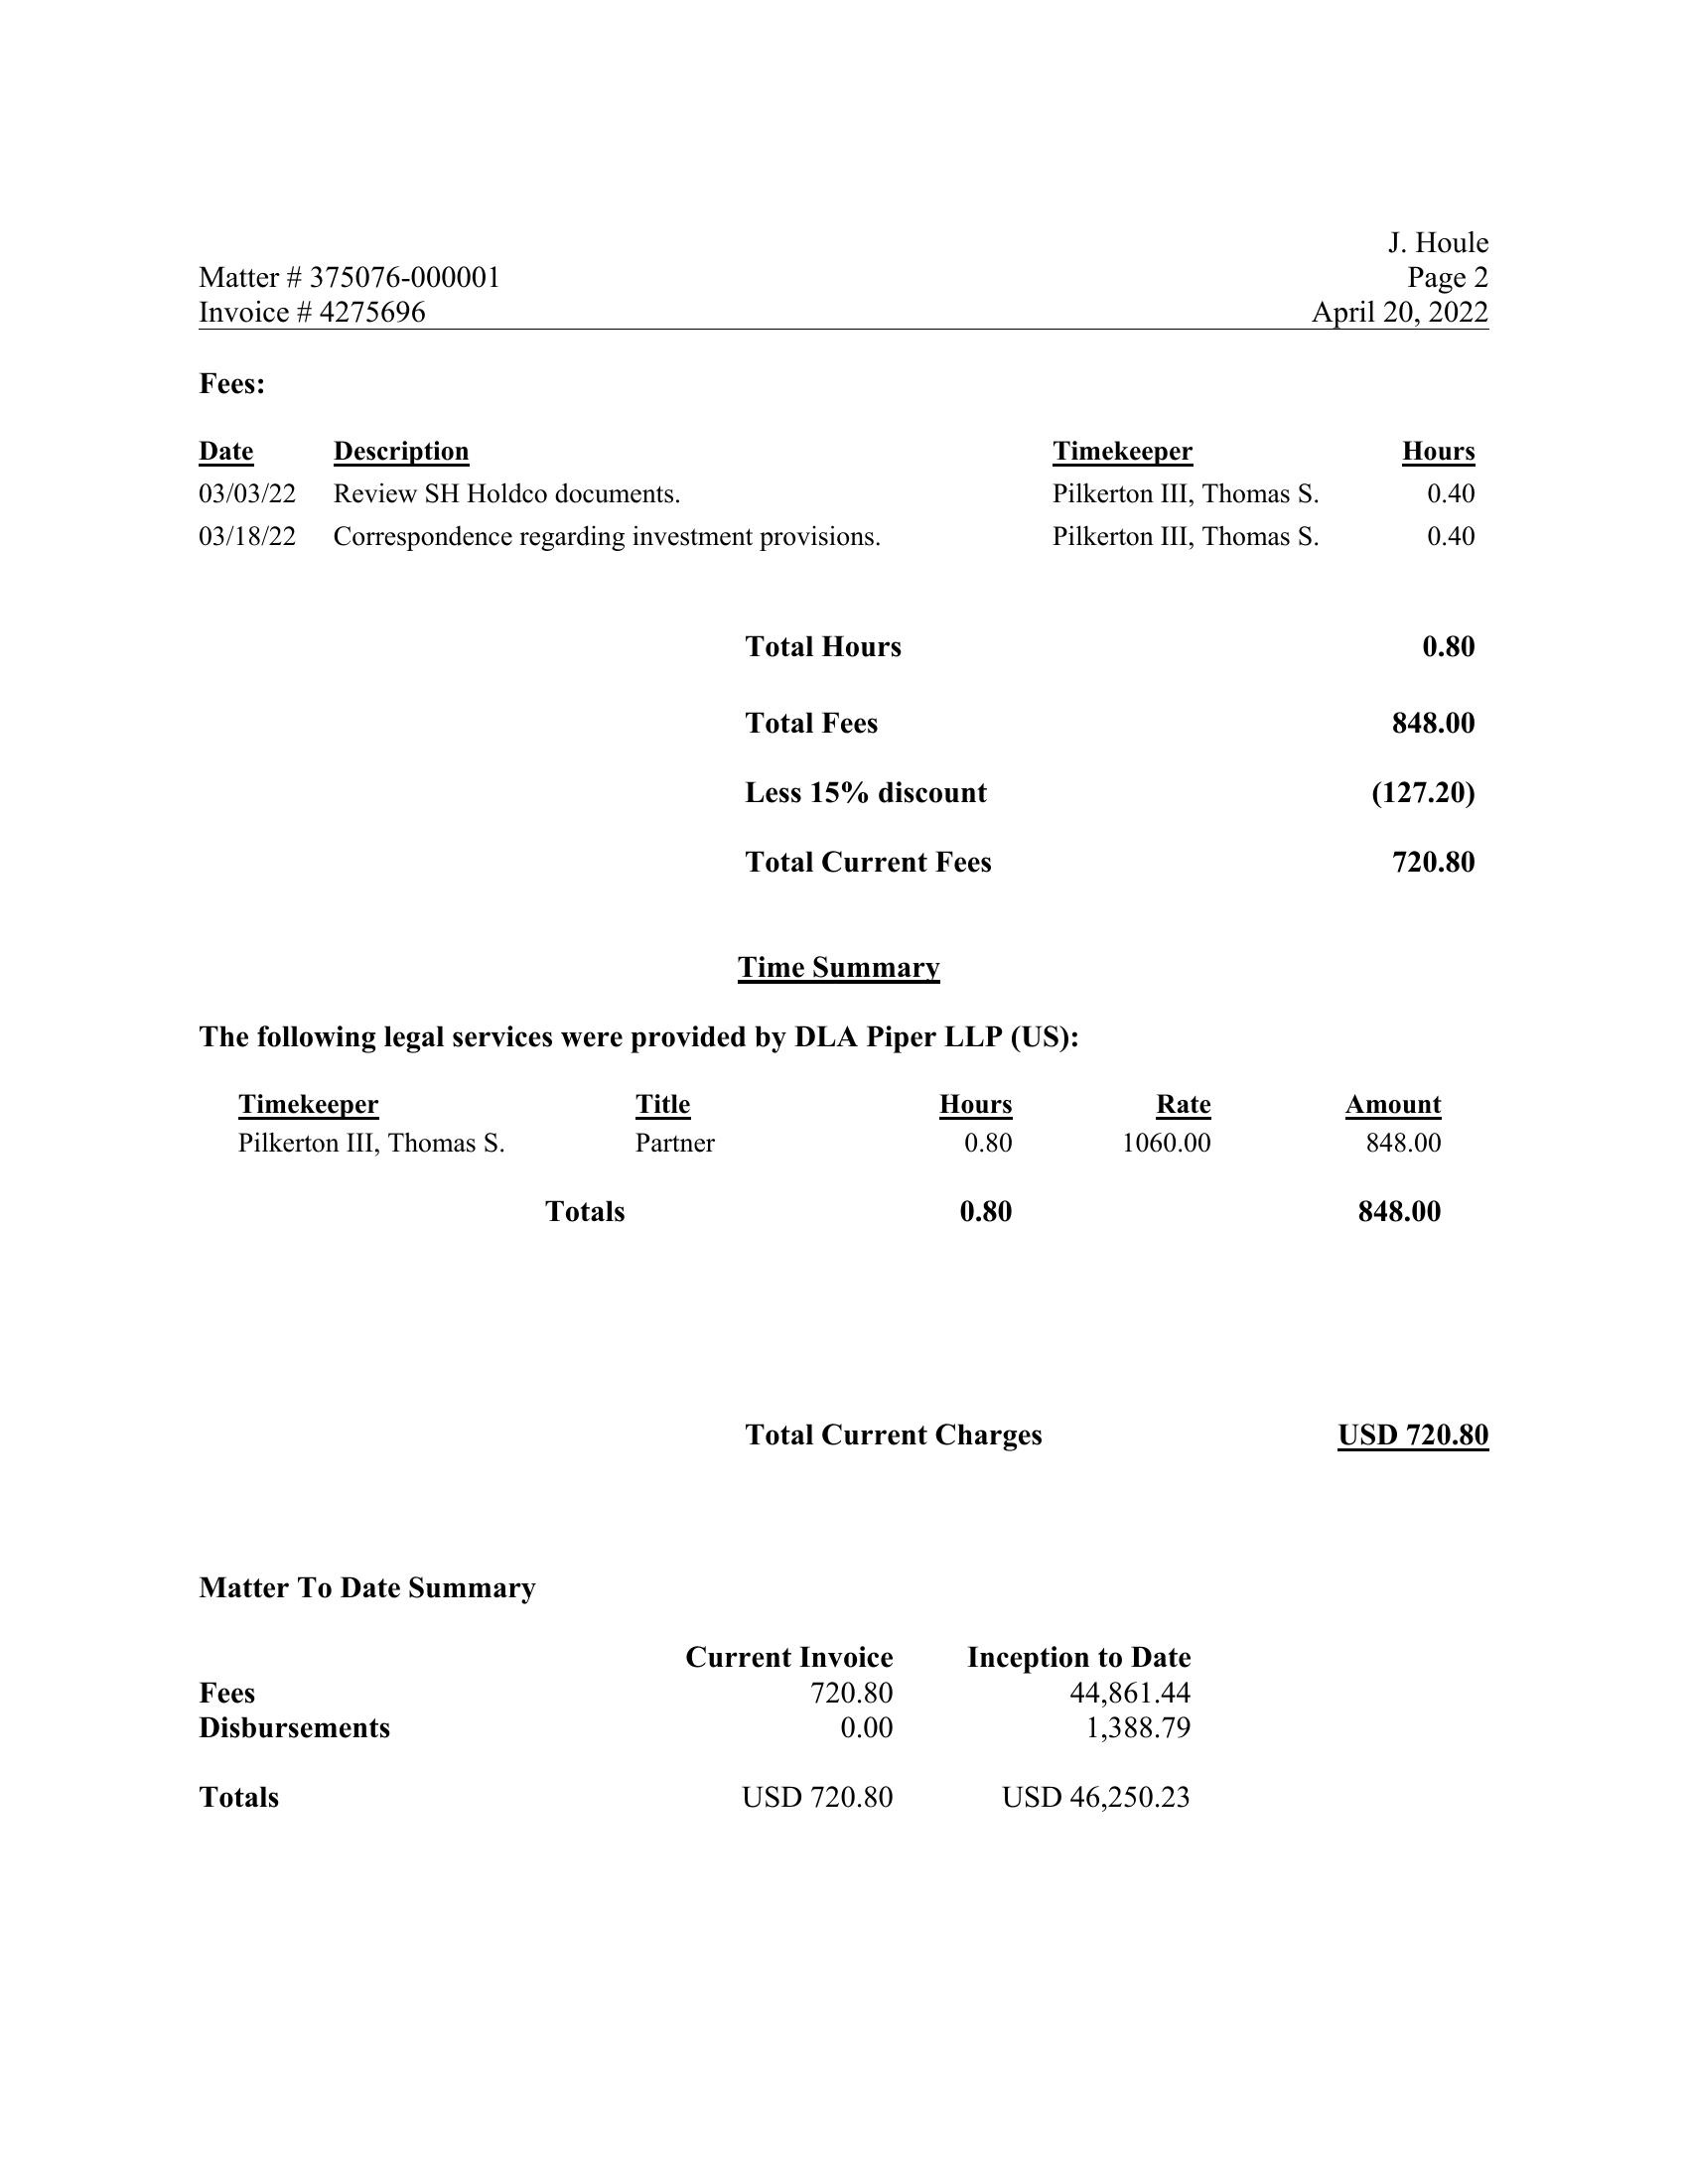0 table: (105, 1599, 1254, 1837), (105, 1048, 1505, 1175)
